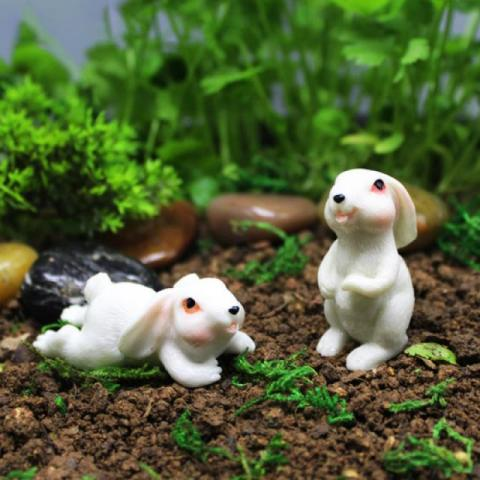small_animal: (0, 233, 479, 479), (31, 270, 257, 389), (314, 166, 420, 372)
